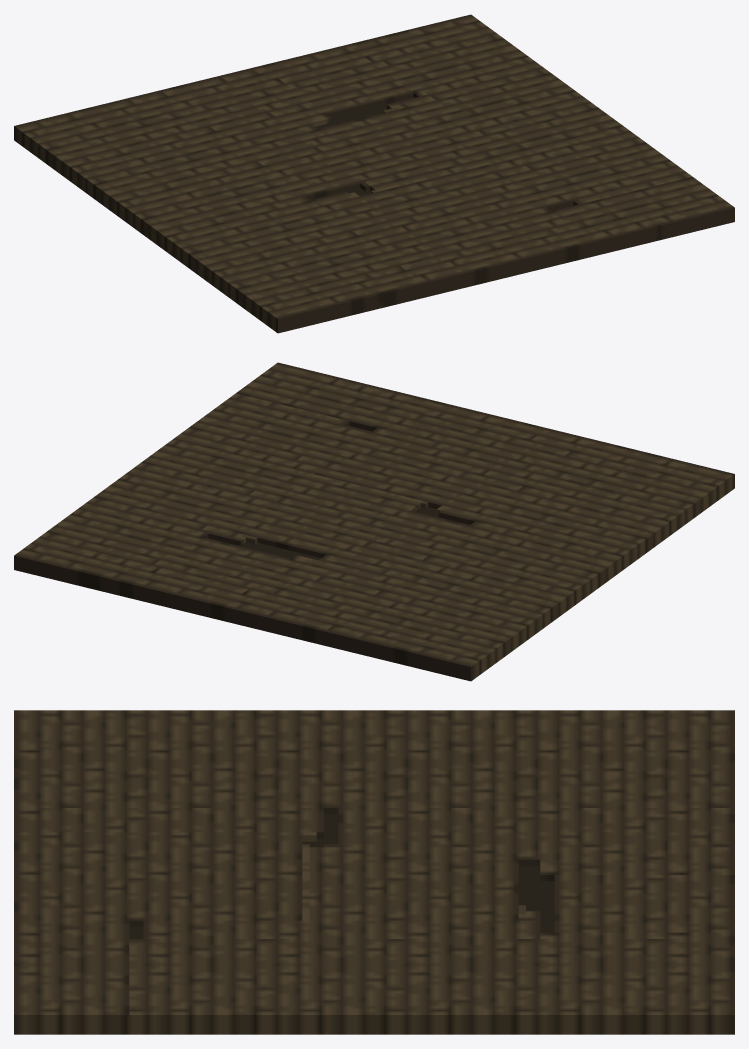
Rendered from Floor_B_00.fbx.
The picture shows the model from 3 angles, top to bottom: view 1: azimuth 30°, elevation 25°; view 2: azimuth 150°, elevation 25°; view 3: azimuth 270°, elevation 25°; orthographic projection. The views are drawn at different scales.
Parts seen in each view (by area): view 1: Floor_B_00; view 2: Floor_B_00; view 3: Floor_B_00.
Boxes of the visible parts, x1,y1,x2,y2 form: Floor_B_00: (14, 14, 734, 333); Floor_B_00: (14, 362, 734, 681); Floor_B_00: (14, 710, 734, 1034).
Bounding box in the file's own units: 500 × 15 × 500.
